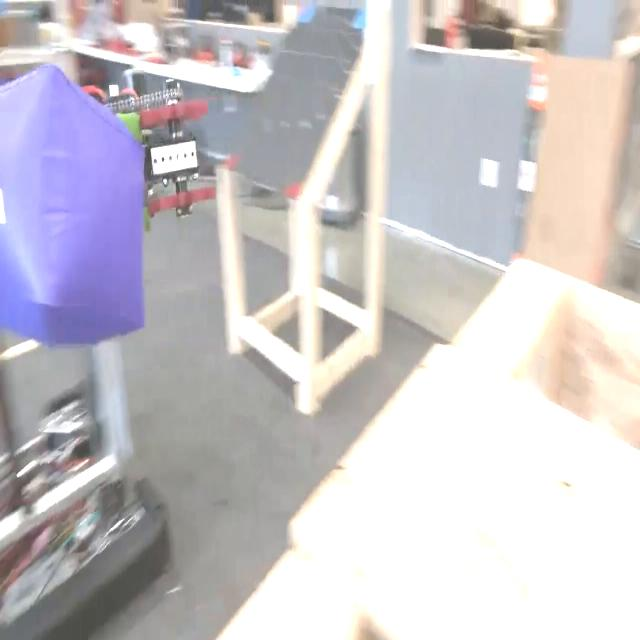frc_cube: (0, 70, 158, 351)
